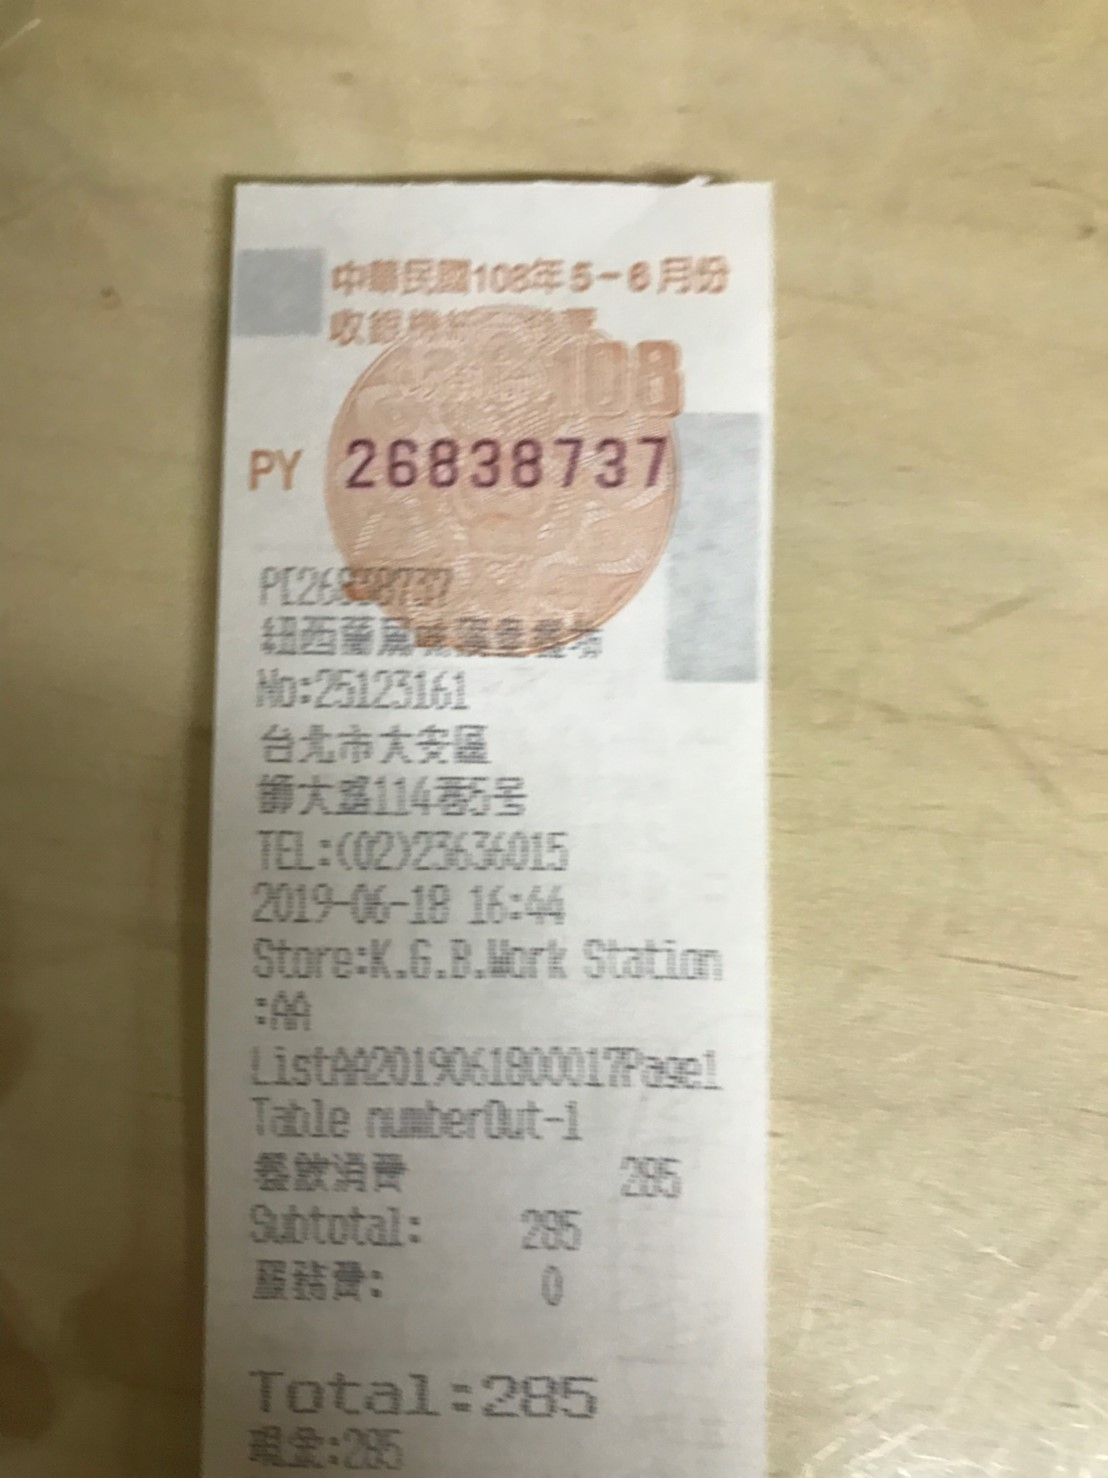Date_Old: (469, 248, 736, 300)
Number_Old: (341, 434, 673, 492)
